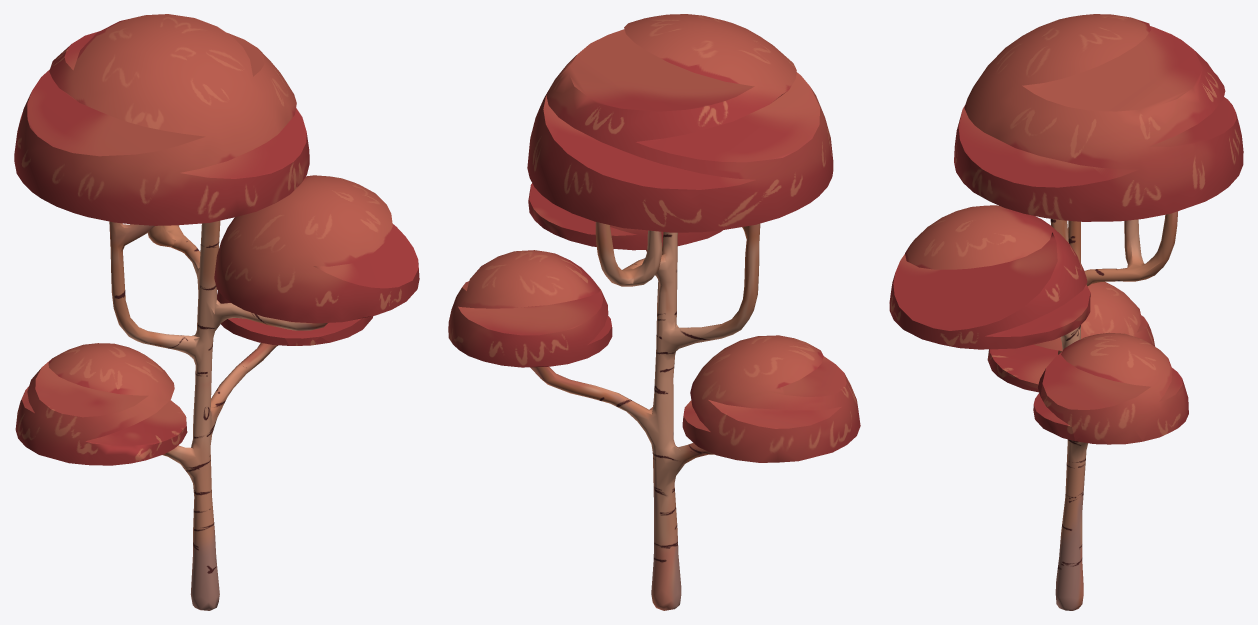
3 views of the same model, side by side, from view 1: azimuth 30°, elevation 25°; view 2: azimuth 150°, elevation 25°; view 3: azimuth 270°, elevation 25° (orthographic). The views are drawn at different scales.
Visible parts, largest first — view 1: Leaves, Trunk; view 2: Leaves, Trunk; view 3: Leaves, Trunk.
Boxes of the visible parts, box(x1,y1,x2,y2) form: Leaves: box(14, 14, 419, 465); Trunk: box(109, 220, 327, 610); Leaves: box(448, 14, 860, 462); Trunk: box(530, 222, 760, 610); Leaves: box(889, 14, 1243, 444); Trunk: box(1050, 211, 1177, 610).
Bounding box in the file's own units: 3.92 × 6.07 × 3.44.
2 materials, 2 textured.
